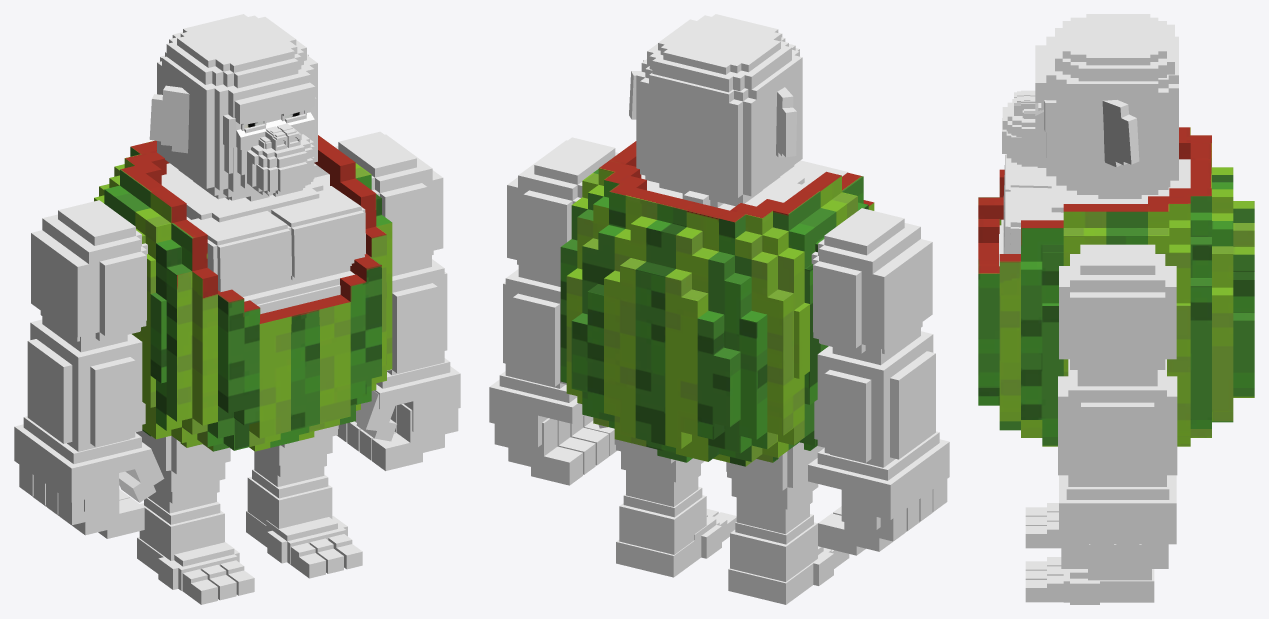
The model's file is GorilloWatermelondrillo.obj.
The picture shows the model from 3 angles, left to right: view 1: azimuth 30°, elevation 25°; view 2: azimuth 150°, elevation 25°; view 3: azimuth 270°, elevation 25°; orthographic projection. The views are drawn at different scales.
Visible parts, largest first — view 1: GorilloWatermelondrillo_3, GorilloWatermelondrillo_1, GorilloWatermelondrillo_5, GorilloWatermelondrillo_0, GorilloWatermelondrillo_6, GorilloWatermelondrillo_4, GorilloWatermelondrillo_8, GorilloWatermelondrillo_7; view 2: GorilloWatermelondrillo_3, GorilloWatermelondrillo_1, GorilloWatermelondrillo_0, GorilloWatermelondrillo_5; view 3: GorilloWatermelondrillo_3, GorilloWatermelondrillo_1, GorilloWatermelondrillo_5, GorilloWatermelondrillo_0, GorilloWatermelondrillo_8, GorilloWatermelondrillo_6, GorilloWatermelondrillo_4, GorilloWatermelondrillo_7.
Part boxes in pixels (x1,y1,x2,y2): GorilloWatermelondrillo_3: (27,51,447,560); GorilloWatermelondrillo_1: (94,111,392,451); GorilloWatermelondrillo_5: (19,14,458,604); GorilloWatermelondrillo_0: (14,104,460,590); GorilloWatermelondrillo_6: (234,82,315,133); GorilloWatermelondrillo_4: (223,97,316,149); GorilloWatermelondrillo_8: (247,134,314,167); GorilloWatermelondrillo_7: (265,123,300,150); GorilloWatermelondrillo_3: (503,44,935,581); GorilloWatermelondrillo_1: (560,141,874,466); GorilloWatermelondrillo_0: (489,160,949,604); GorilloWatermelondrillo_5: (494,14,947,568); GorilloWatermelondrillo_3: (999,36,1190,580); GorilloWatermelondrillo_1: (978,127,1254,446); GorilloWatermelondrillo_5: (1002,14,1174,602); GorilloWatermelondrillo_0: (999,109,1176,604); GorilloWatermelondrillo_8: (1002,99,1037,137); GorilloWatermelondrillo_6: (1035,45,1046,110); GorilloWatermelondrillo_4: (1035,100,1056,132); GorilloWatermelondrillo_7: (1014,90,1035,115).
Bounding box in the file's own units: 2.92 × 3.68 × 1.75.
9 materials, 1 textured.
